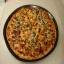pizza: (7, 6, 56, 60)
